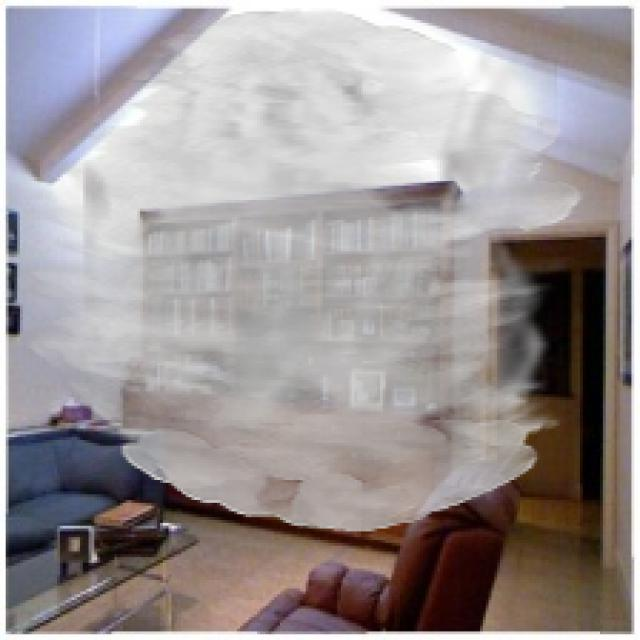smoke: (17, 9, 583, 532)
